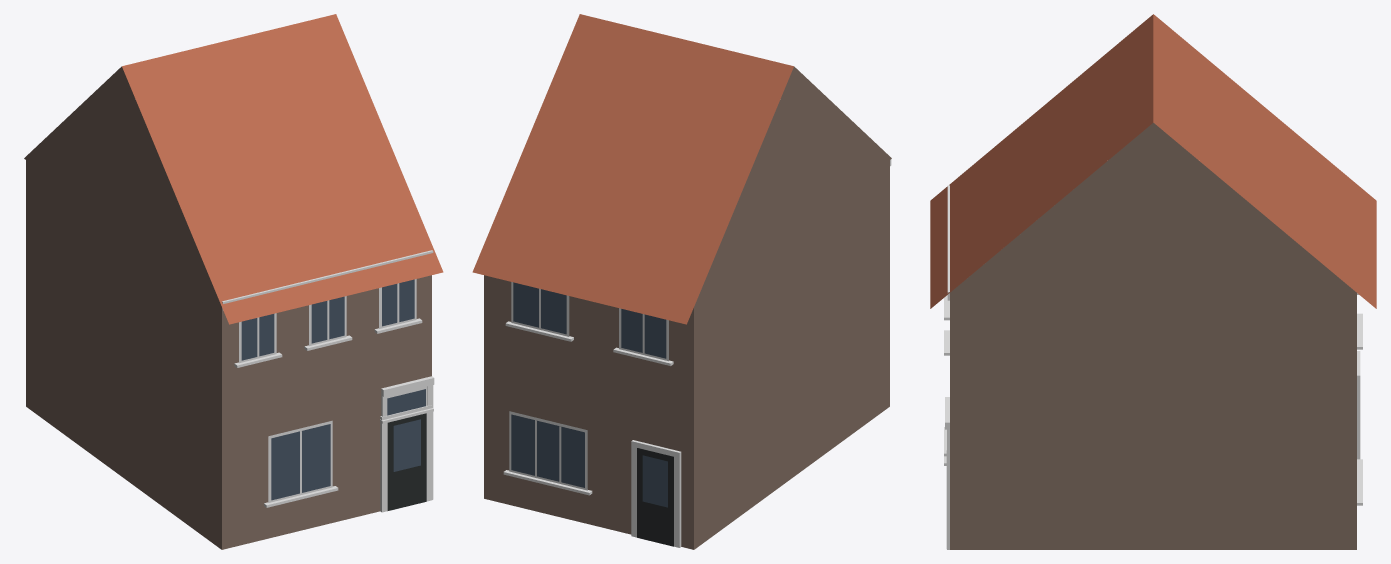
The model's file is nn-row-small__small__2__gable__long__solid__mirror.glb.
3 views of the same model, side by side, from view 1: azimuth 30°, elevation 25°; view 2: azimuth 150°, elevation 25°; view 3: azimuth 270°, elevation 25° (orthographic). The views are drawn at different scales.
Parts seen in each view (by area): view 1: nn-row-small__small__2__gable__long__solid__mirror; view 2: nn-row-small__small__2__gable__long__solid__mirror; view 3: nn-row-small__small__2__gable__long__solid__mirror.
Part boxes in pixels (<box>): nn-row-small__small__2__gable__long__solid__mirror: <box>24,14,443,549</box>; nn-row-small__small__2__gable__long__solid__mirror: <box>472,14,891,549</box>; nn-row-small__small__2__gable__long__solid__mirror: <box>930,14,1376,549</box>.
Size of the model in its own units: 5.23 by 9.62 by 9.09.
